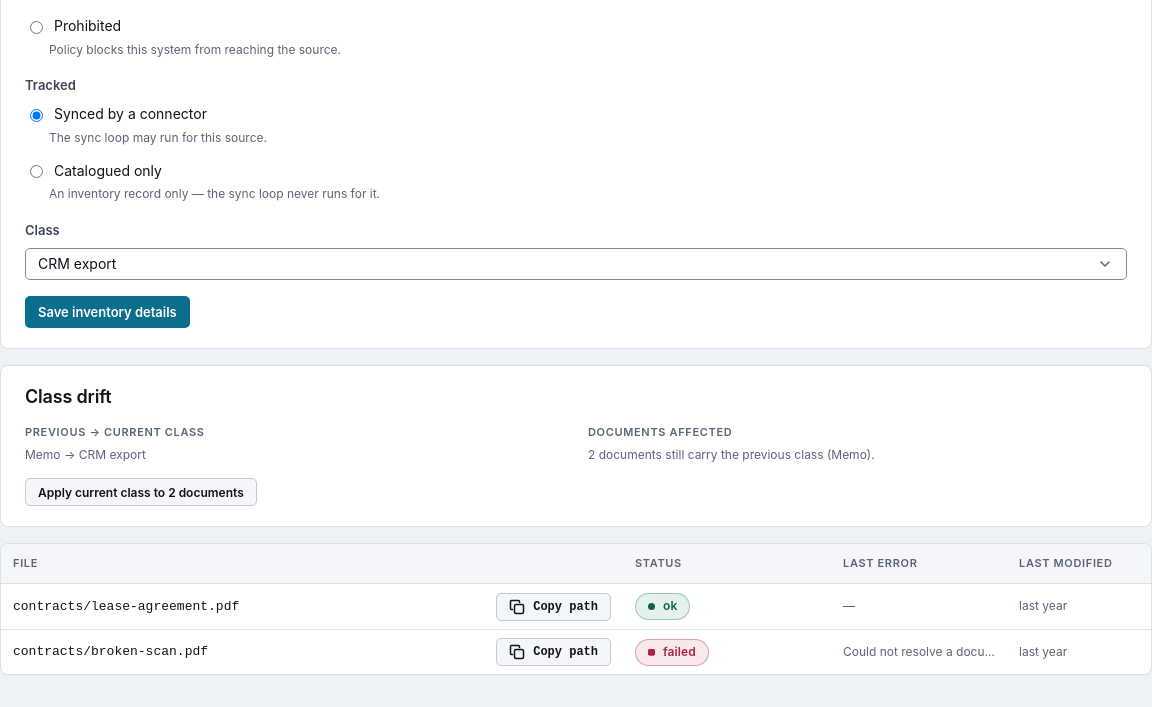
Test: SourceDetailPage › shows the drift card with the count read from one server value, opens and cancels the dialog
(page scrolled)
Expected: the text "2 documents still carry the previous class (Memo)." is shown, [588, 446, 875, 462]
Click the button "Apply current class to 2 documents". click: (141,492)
box: [25, 478, 257, 506]
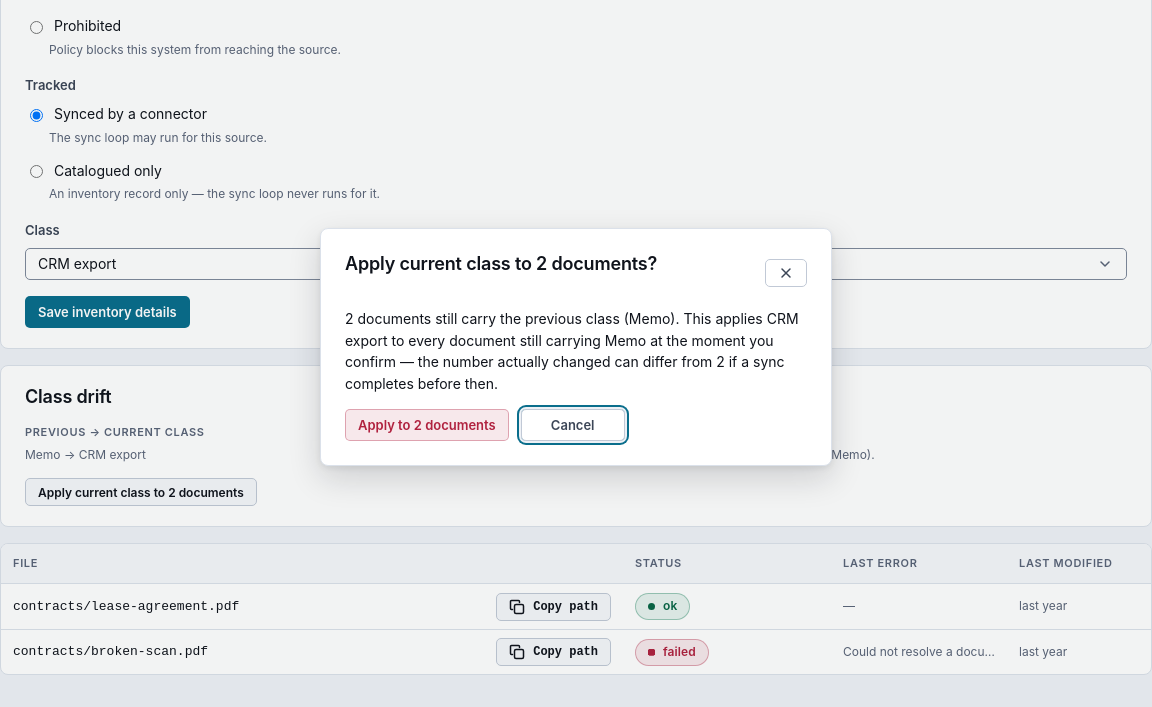
Expected: the button "Apply to 2 documents" is shown, [345, 409, 509, 441]
Expected: the dialog "Apply current class to 2 documents?" shows "This applies CRM export to every document", [345, 310, 799, 392]
Click the button "Cancel". click: (573,425)
box: [521, 409, 625, 441]
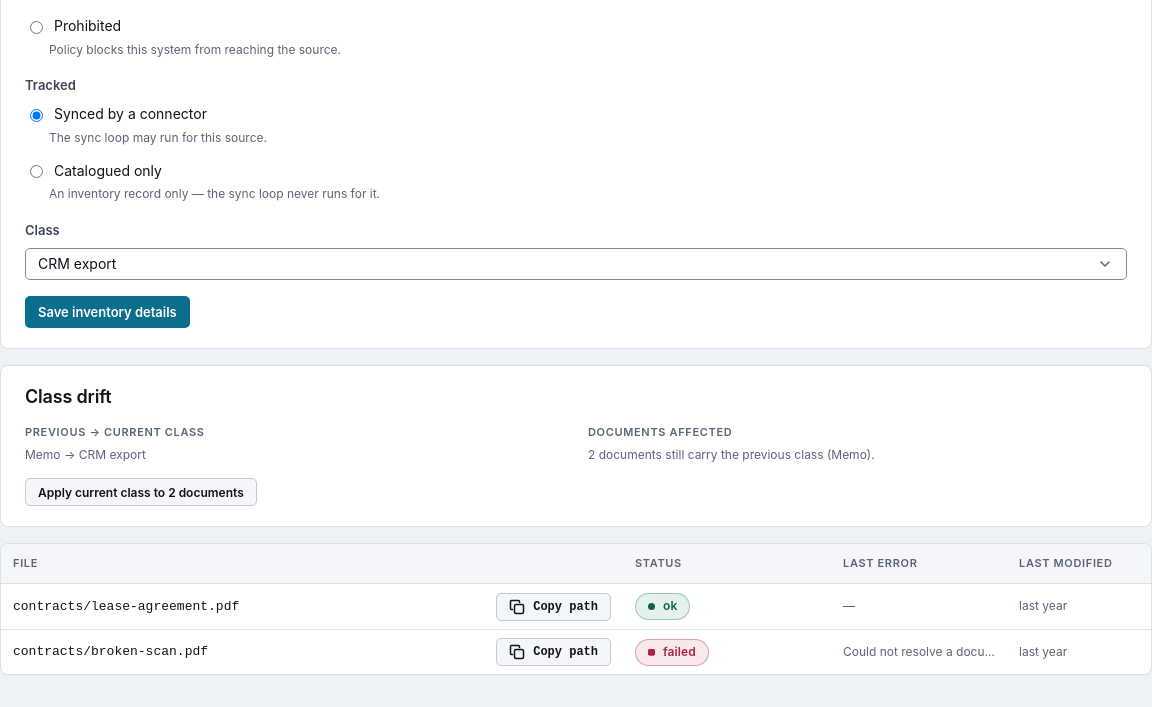
Expected: the dialog is gone
